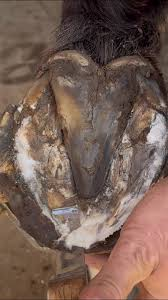horsesole: (1, 69, 168, 257)
